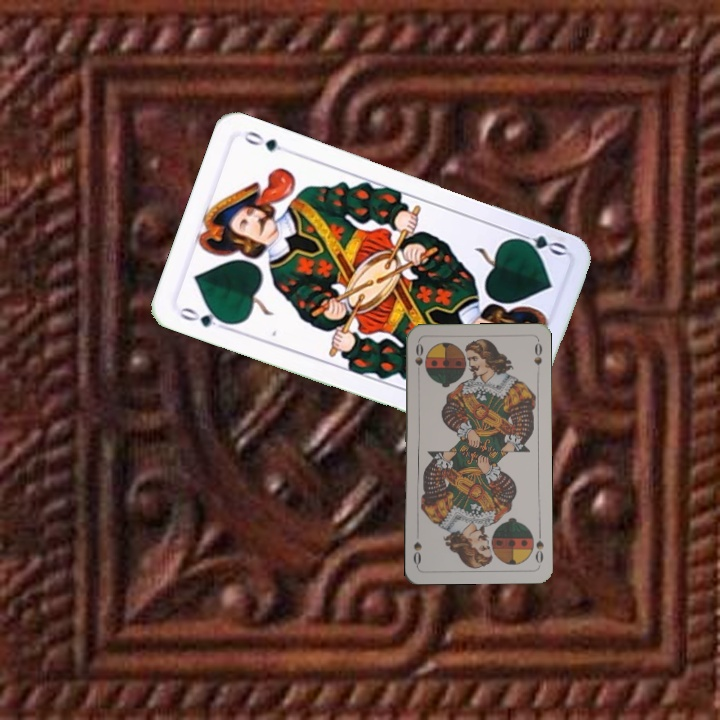GO: (509, 227, 569, 259), (175, 303, 233, 334)
SO: (411, 339, 426, 379), (532, 527, 546, 566)
